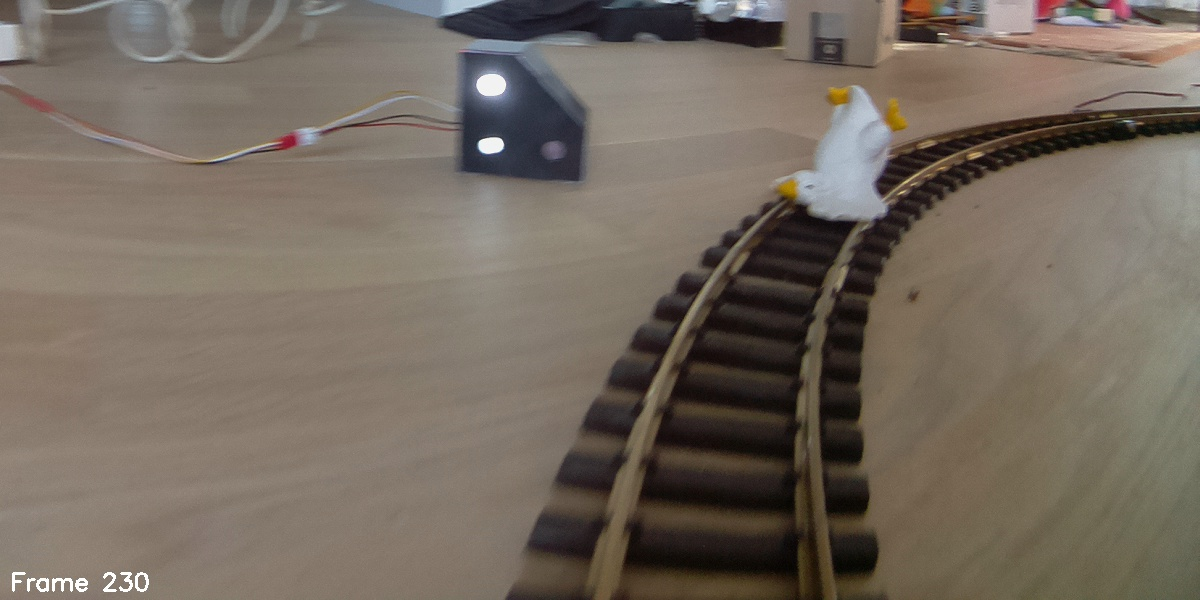Ente: (767, 81, 913, 229)
Fahrt: (461, 39, 587, 183)
